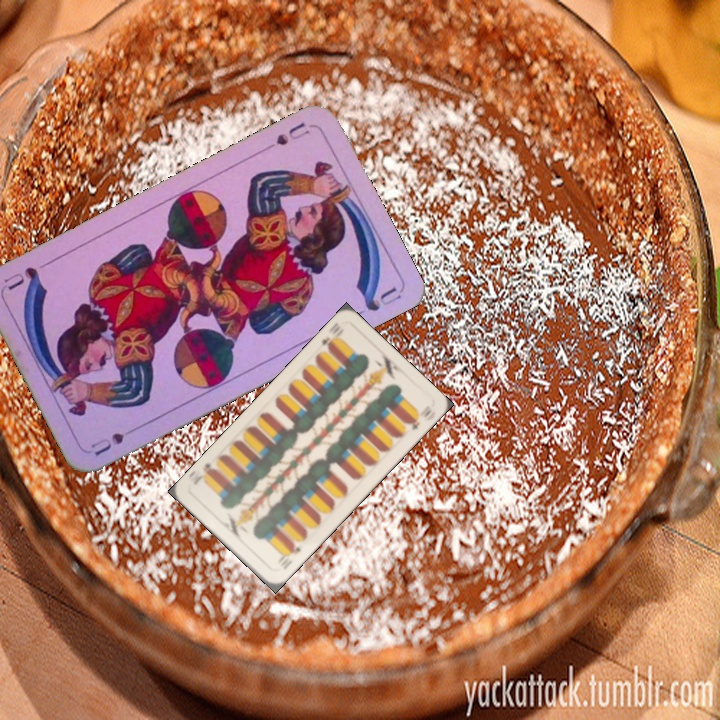E10: (314, 321, 344, 353), (279, 540, 303, 572)
SU: (259, 118, 313, 154), (86, 428, 127, 459)
